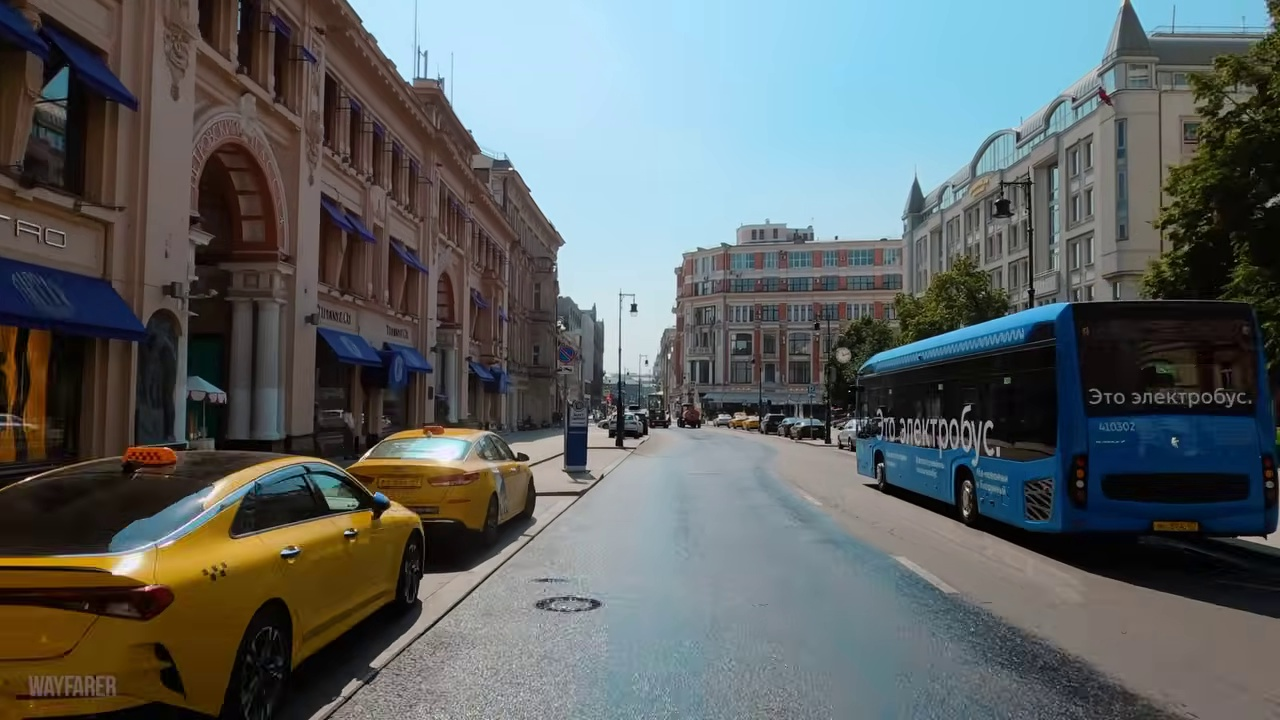apagada: (622, 297, 643, 319)
